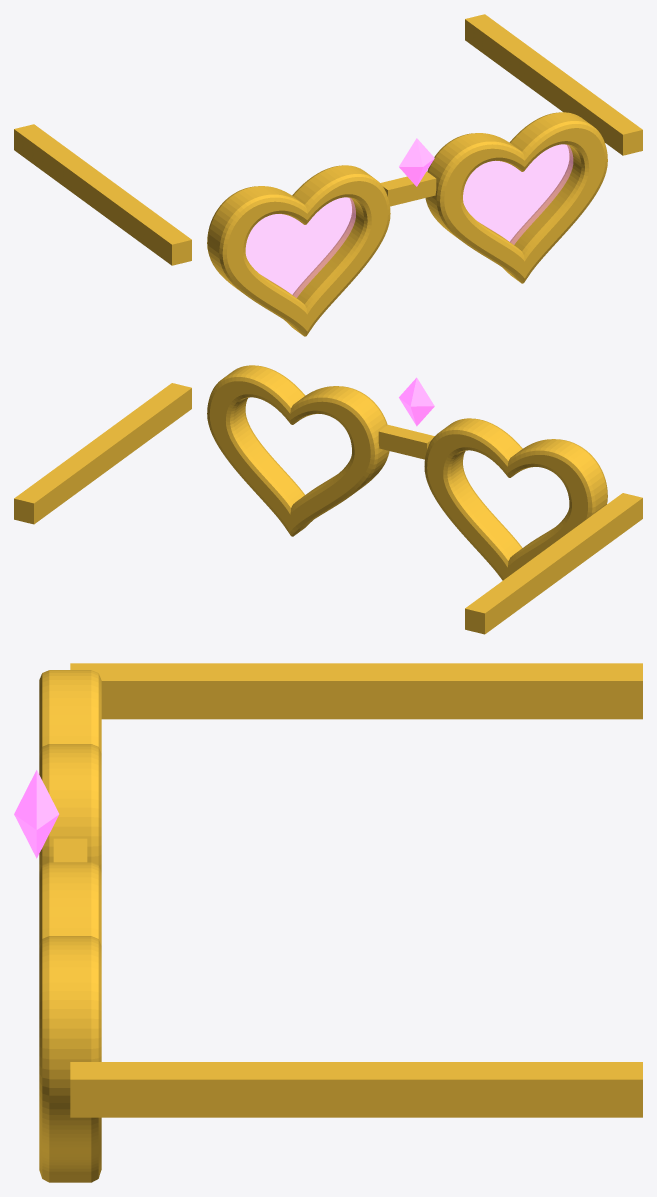
File: gl_eqmo4.glb
The picture shows the model from 3 angles, top to bottom: view 1: azimuth 30°, elevation 25°; view 2: azimuth 150°, elevation 25°; view 3: azimuth 270°, elevation 25°; orthographic projection. The views are drawn at different scales.
Bounding box in the file's own units: 1.8 × 0.6398 × 1.15.
